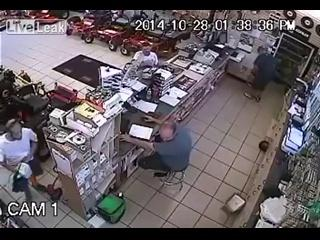Normal: (128, 114, 192, 174), (0, 118, 47, 195), (244, 46, 284, 103)
